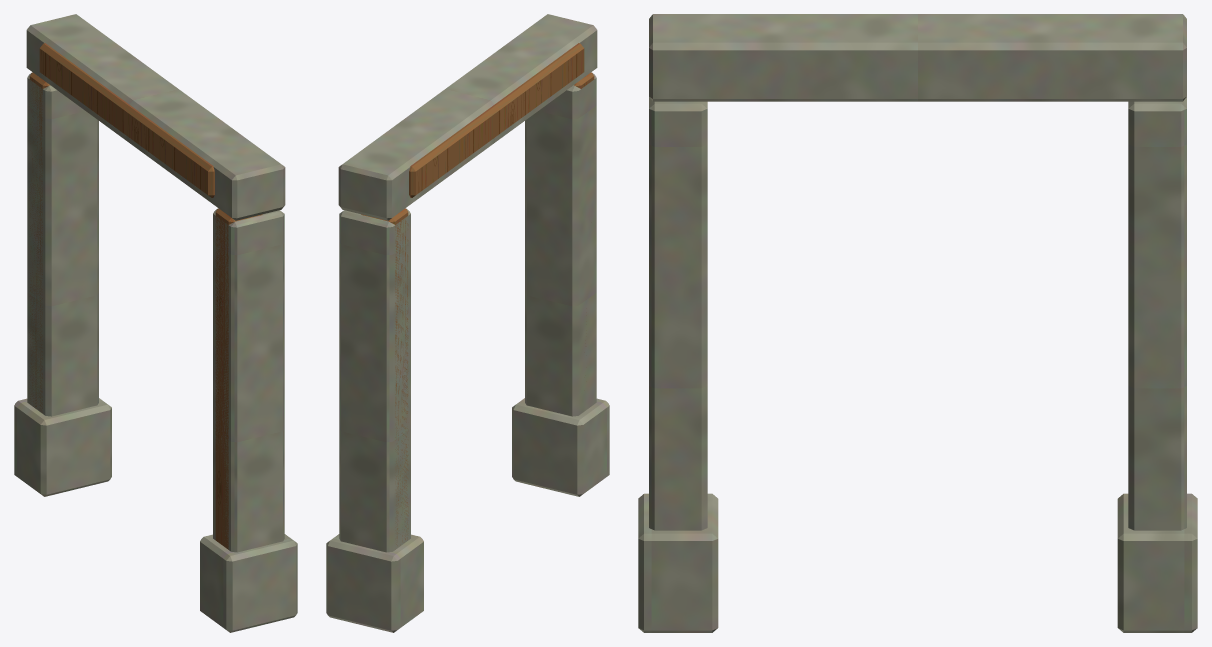
Rendered from SM_HH_Q3_DoorFrame.fbx.
The picture shows the model from 3 angles, left to right: view 1: azimuth 30°, elevation 25°; view 2: azimuth 150°, elevation 25°; view 3: azimuth 270°, elevation 25°; orthographic projection. The views are drawn at different scales.
Visible parts, largest first — view 1: HH_Q3_DoorFrame; view 2: HH_Q3_DoorFrame; view 3: HH_Q3_DoorFrame.
Part boxes in pixels (x1,y1,x2,y2): HH_Q3_DoorFrame: [14, 14, 297, 632]; HH_Q3_DoorFrame: [326, 14, 609, 632]; HH_Q3_DoorFrame: [638, 14, 1197, 632].
Size of the model in its own units: 2.1 by 0.4 by 2.42.
